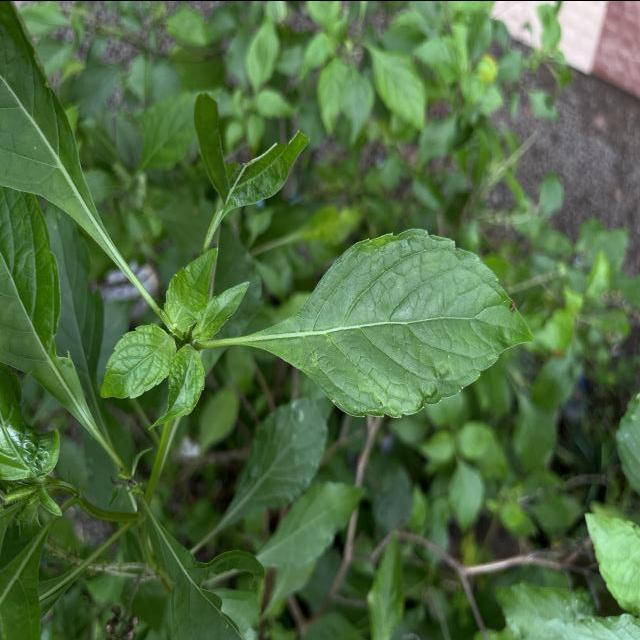Ocimum gratissimum: (244, 224, 538, 422), (0, 0, 119, 303)
